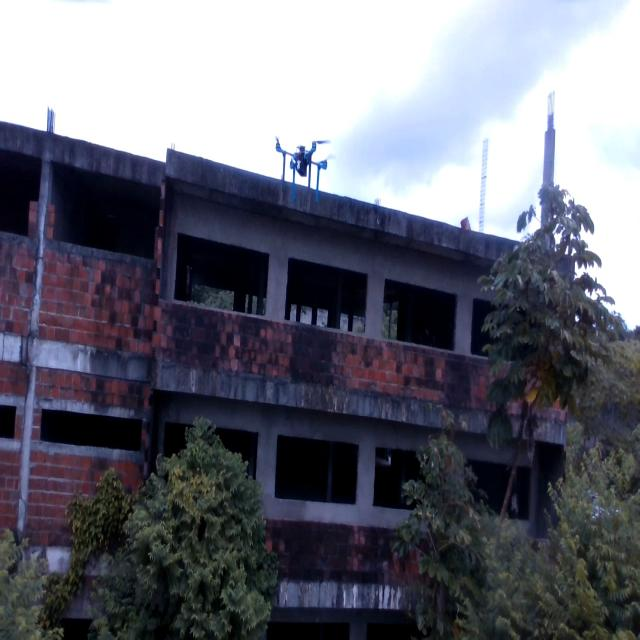-uav-: (261, 113, 354, 228)
